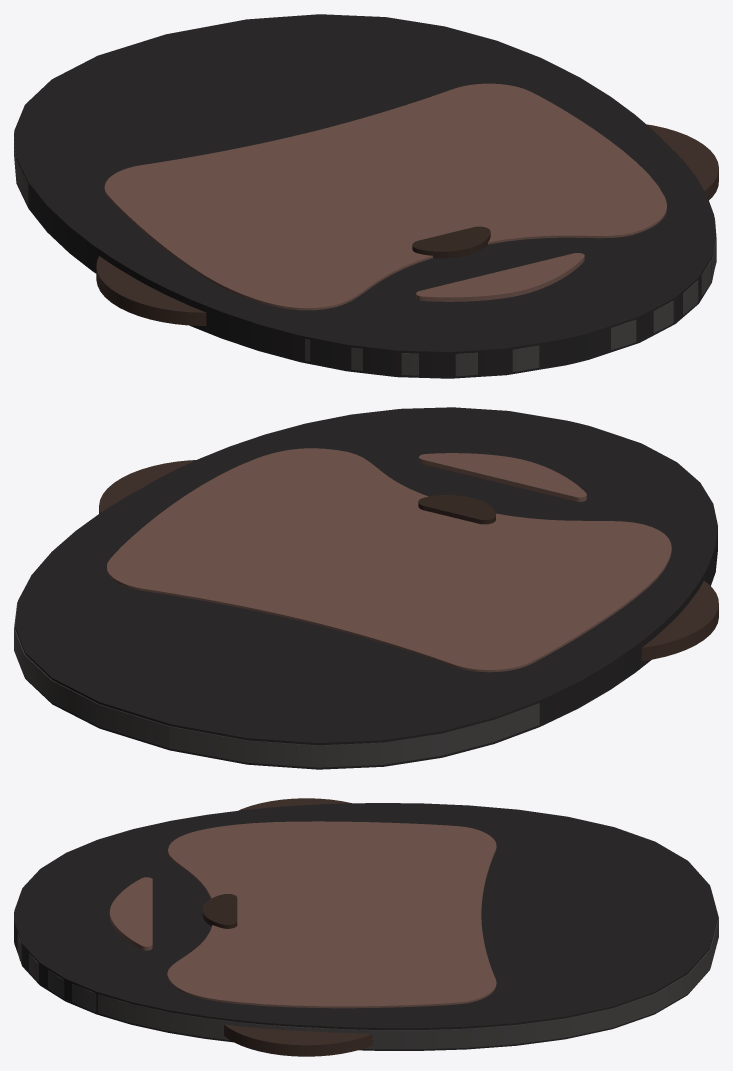
File: emoji_u1f9d4_1f3ff_200d_2642.glb
The picture shows the model from 3 angles, top to bottom: view 1: azimuth 30°, elevation 25°; view 2: azimuth 150°, elevation 25°; view 3: azimuth 270°, elevation 25°; orthographic projection. The views are drawn at different scales.
Visible parts, largest first — view 1: emoji_u1f9d4_1f3ff_200d_2642; view 2: emoji_u1f9d4_1f3ff_200d_2642; view 3: emoji_u1f9d4_1f3ff_200d_2642.
Part boxes in pixels (<box>): emoji_u1f9d4_1f3ff_200d_2642: <box>14,14,718,378</box>; emoji_u1f9d4_1f3ff_200d_2642: <box>14,407,718,769</box>; emoji_u1f9d4_1f3ff_200d_2642: <box>14,798,718,1056</box>.
Size of the model in its own units: 0.028 by 0.0018 by 0.0337.
